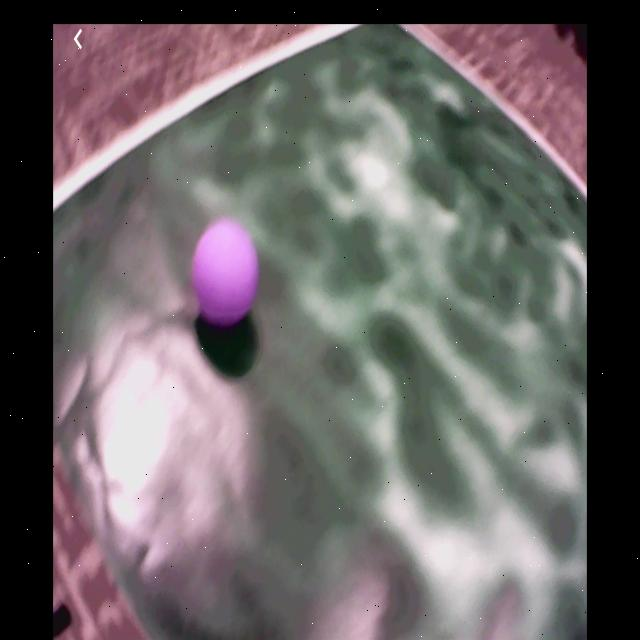ball: (191, 220, 260, 329)
